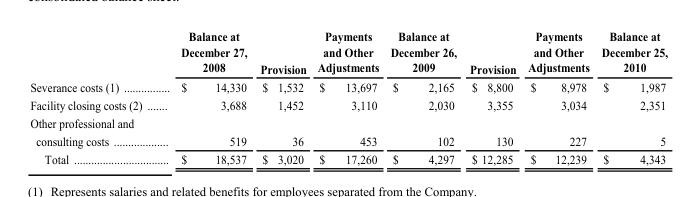table: (29, 28, 667, 165)
table column: (29, 28, 160, 165), (160, 28, 252, 165), (384, 28, 462, 165), (311, 28, 384, 165), (521, 28, 594, 165), (594, 28, 667, 165), (252, 28, 311, 165), (462, 28, 521, 165)
table column header: (29, 28, 667, 77)
table projected row header: (29, 113, 667, 131)
table row: (29, 28, 667, 77), (29, 131, 667, 150), (29, 77, 667, 95), (29, 95, 667, 113), (29, 113, 667, 131), (29, 150, 667, 165)
